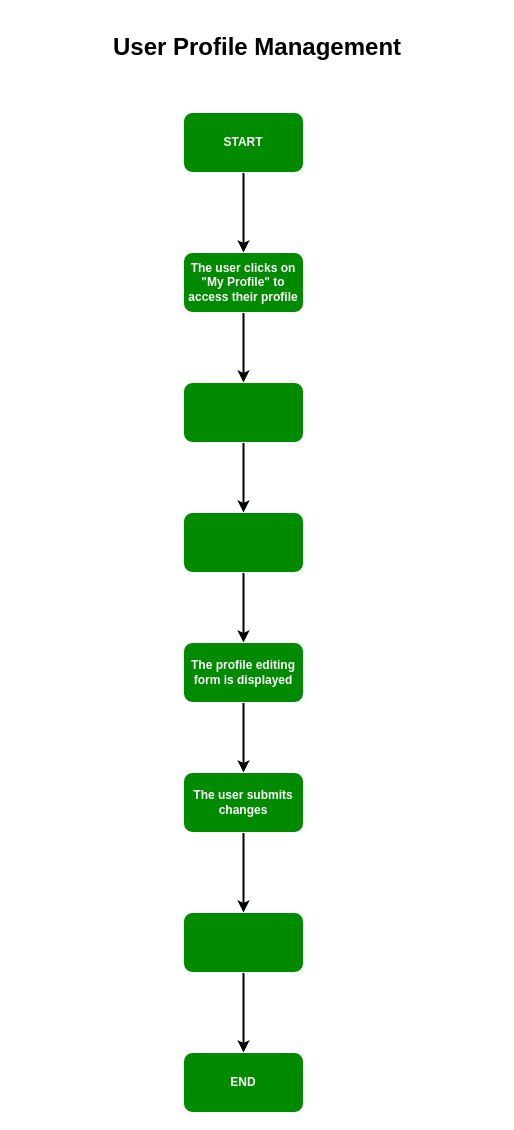
This 514x1130 diagram has some shape labels left out. Here are the shapes that lost their labels. From the top down, the centre of each, then its label:
pixel 243 412: The app displays the user's profile
pixel 243 542: The user clicks "Edit Profile" to make changes.
pixel 243 942: The user's profile is updated with the submitted changes
